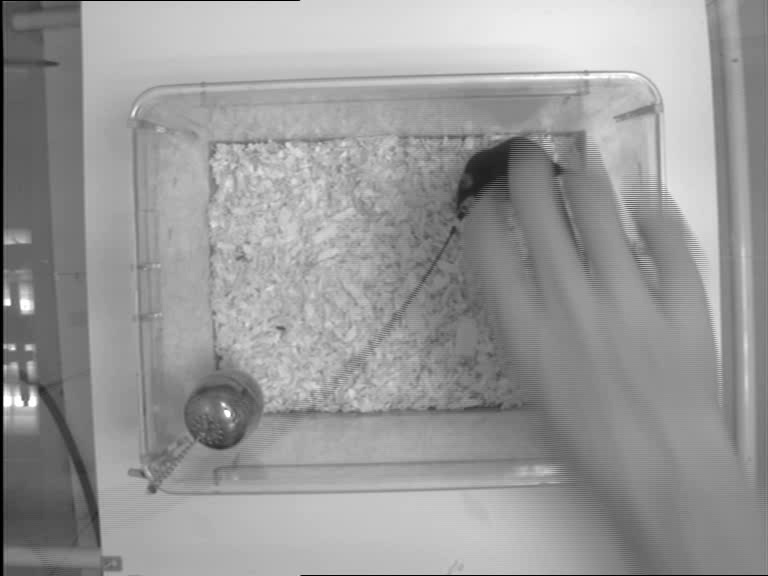mice: (456, 135, 577, 220)
